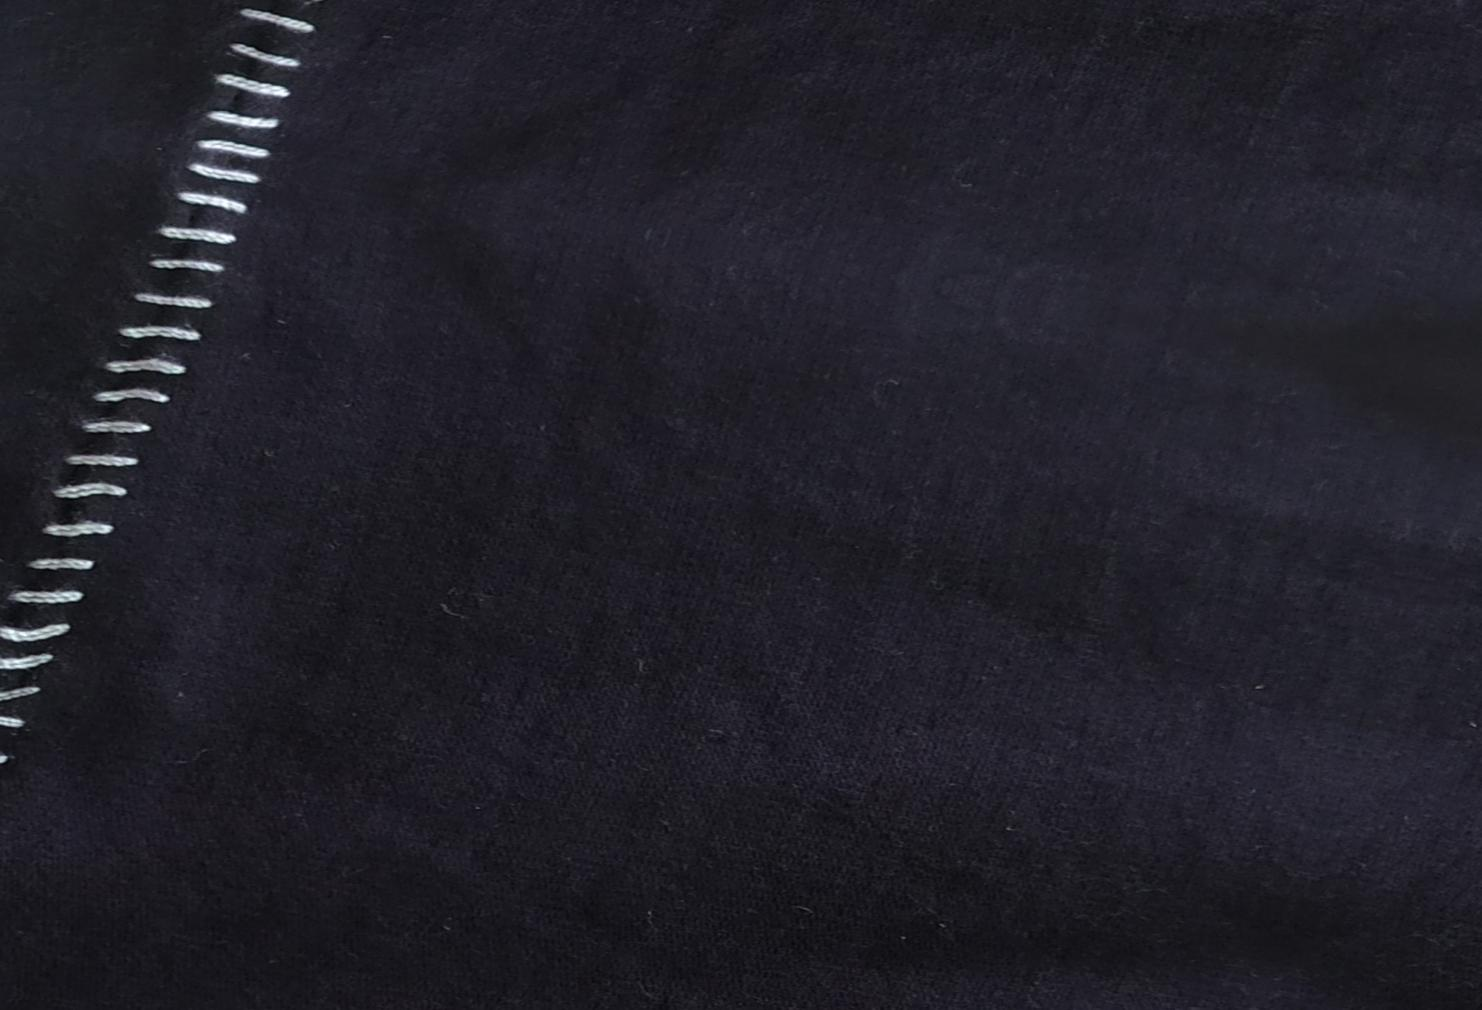slub: (5, 2, 310, 772)
